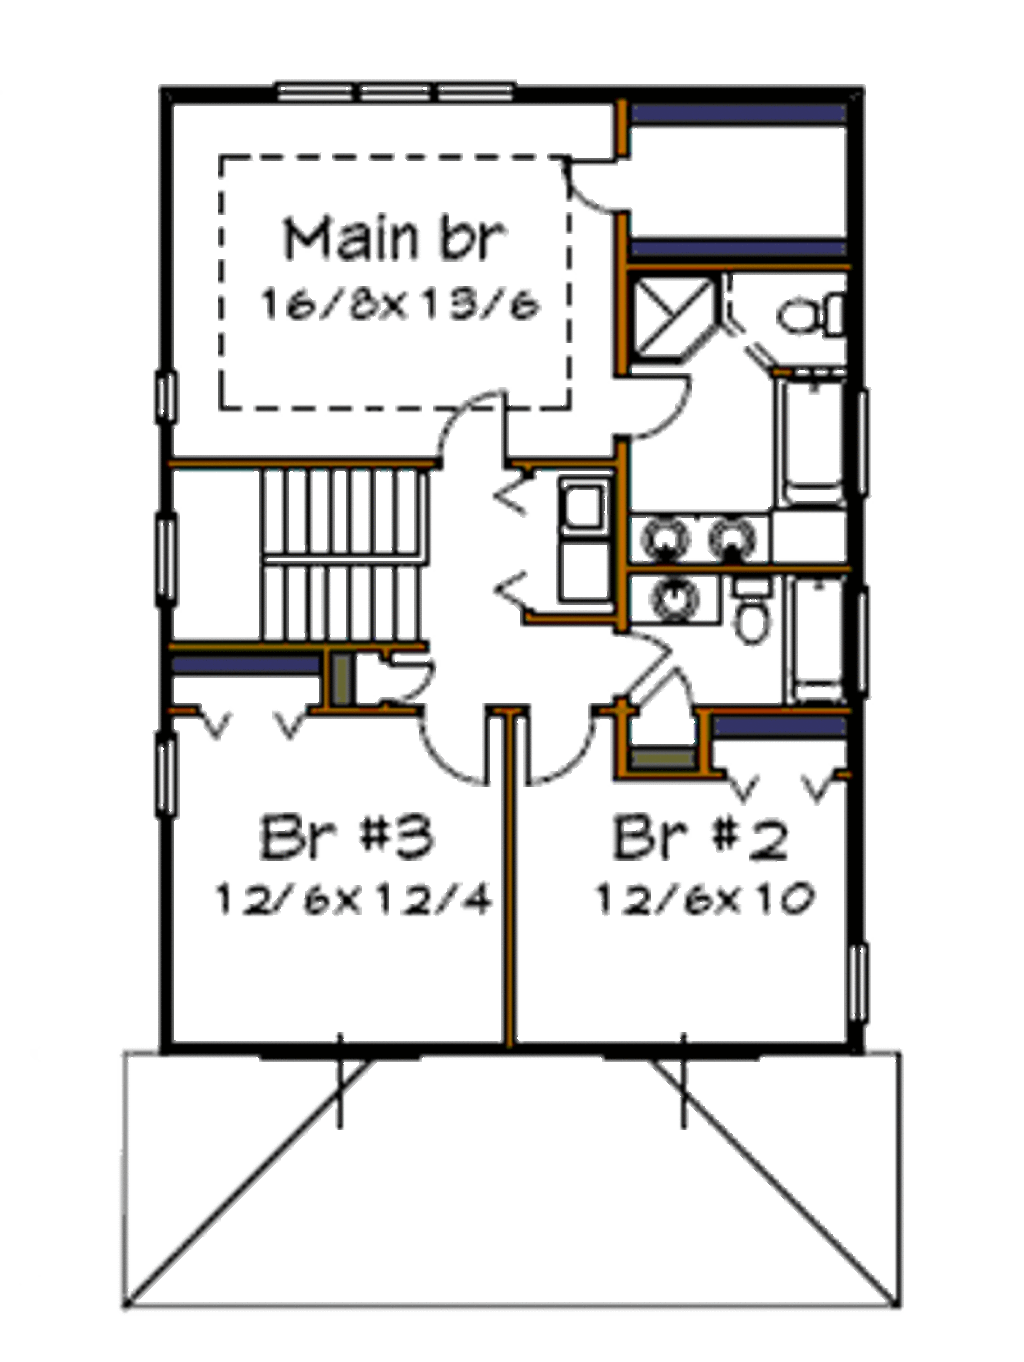door: (429, 388, 527, 465), (527, 714, 605, 797), (421, 718, 502, 792), (615, 377, 691, 443), (557, 148, 632, 209), (615, 626, 666, 699), (640, 671, 702, 724)
large_sink: (774, 284, 851, 352), (729, 571, 778, 659)
small_sink: (632, 514, 766, 567), (636, 579, 719, 632)
stairs: (189, 467, 436, 648)
tub: (770, 367, 861, 509), (781, 577, 853, 714)
window: (272, 73, 515, 109), (140, 509, 195, 616), (150, 730, 193, 831), (838, 944, 883, 1020), (146, 369, 187, 428)
